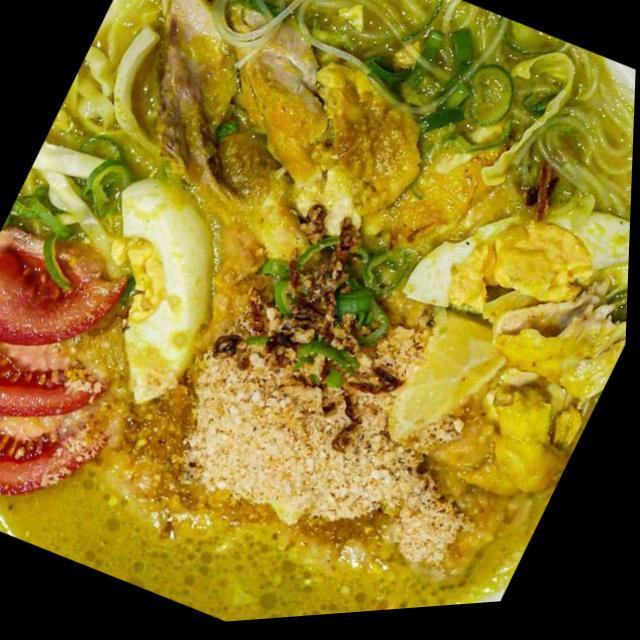Soto: (0, 0, 633, 619)
